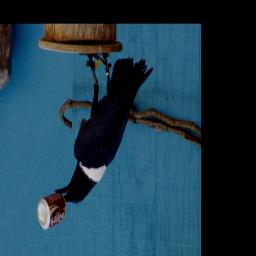Crow: (53, 51, 154, 206)
